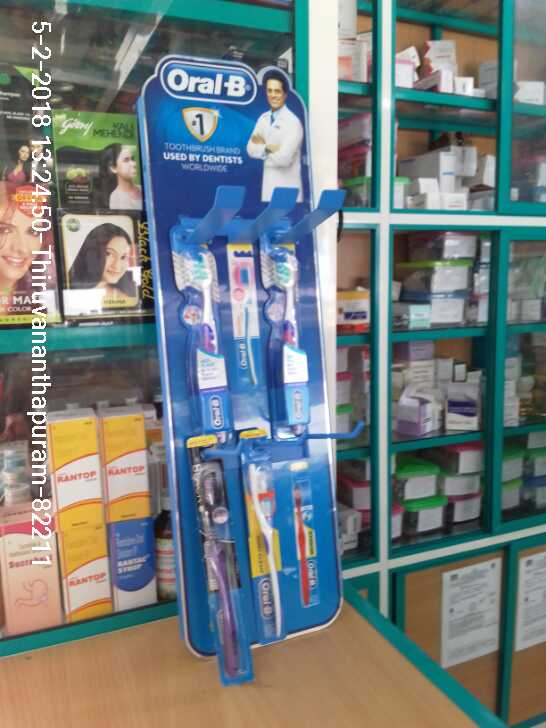oralb: (187, 441, 255, 682), (167, 229, 235, 429), (238, 429, 289, 638), (259, 240, 312, 432)
